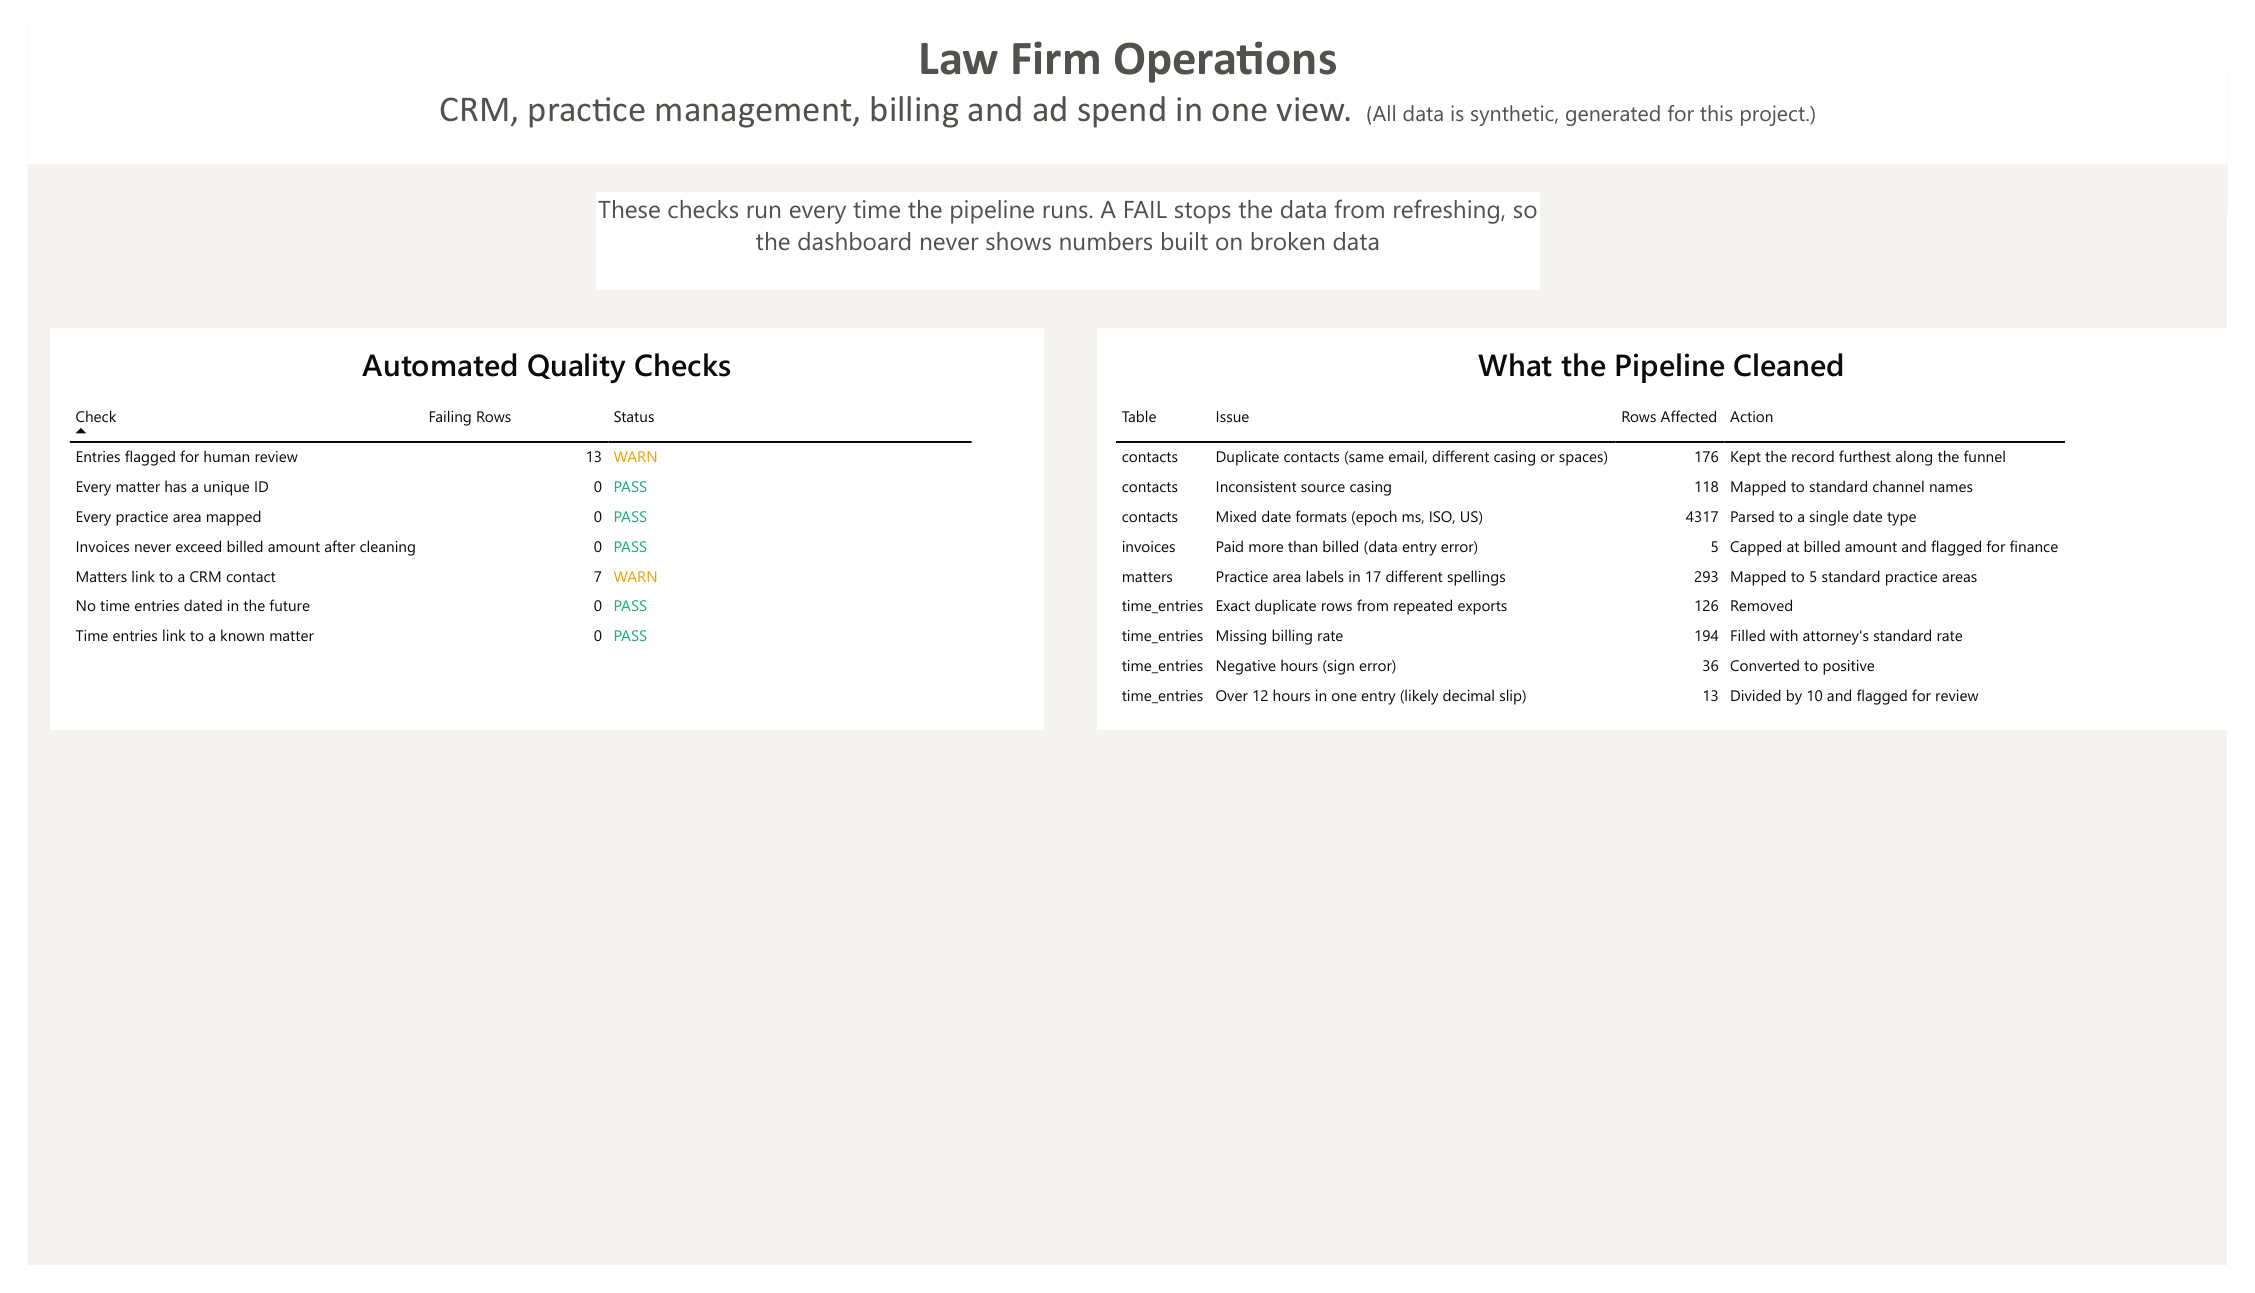

The dashboard page shown, as its layout file describes it:
{"tool":"powerbi","page":{"name":"Data Quality","canvas":[1920,1080],"ordinal":5},"visuals":[{"type":"textbox","box":[0,0,1921,119.2],"z":0},{"type":"tableEx","title":"Automated Quality Checks","fields":{"Values":["QualityChecks.check","Sum(QualityChecks.failing_rows)","QualityChecks.status"]},"box":[20,262.2,866.7,351.1],"z":1},{"type":"tableEx","title":"What the Pipeline Cleaned","fields":{"Values":["CleaningLog.table","CleaningLog.issue","Sum(CleaningLog.rows_affected)","CleaningLog.action"]},"box":[933.3,262.2,986.7,351.1],"z":2},{"type":"textbox","box":[495.6,144.4,824.4,84.4],"z":3}]}

Visuals, with their boxes in screenshot pixels (x1, y1, x2, y2), scaled from the page's 1920x1080 canvas onto the 2255x1293 screenshot:
textbox: [0,0,2254,143]
"Automated Quality Checks" tableEx: [23,314,1041,734]
"What the Pipeline Cleaned" tableEx: [1096,314,2254,734]
textbox: [582,173,1550,274]
